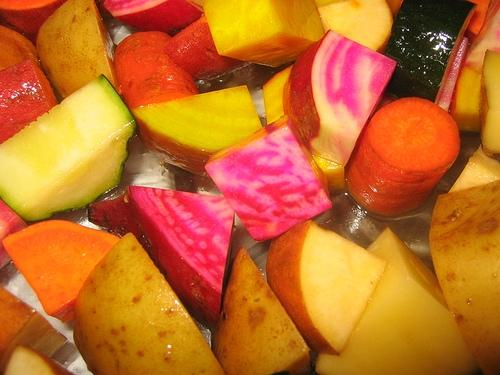carrot: (347, 98, 461, 216), (2, 219, 121, 323), (114, 32, 199, 110), (163, 14, 249, 80), (0, 58, 58, 144), (0, 0, 69, 46)
potato: (315, 227, 481, 375), (74, 232, 226, 375), (264, 220, 388, 356), (283, 28, 397, 167), (429, 180, 500, 374), (212, 246, 312, 374), (130, 84, 263, 180), (36, 0, 118, 101), (202, 0, 324, 67), (114, 31, 200, 110), (0, 286, 67, 375), (314, 0, 393, 54), (447, 143, 500, 193), (478, 49, 500, 163), (3, 344, 78, 375), (449, 65, 481, 133), (262, 64, 295, 124)
